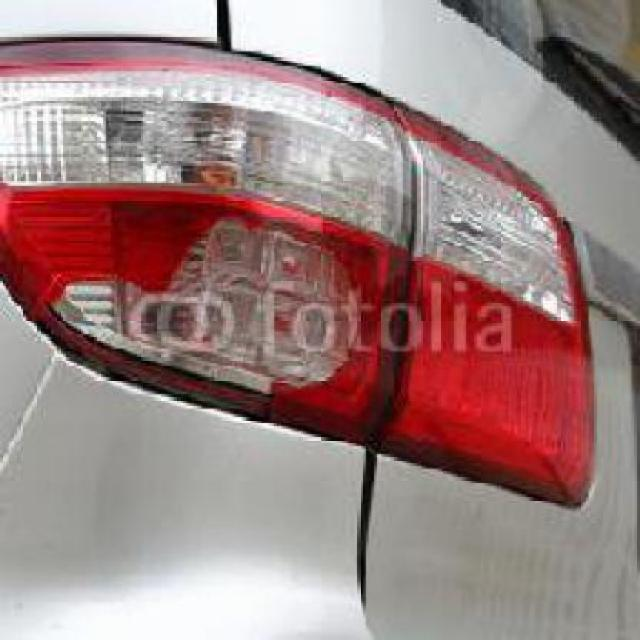damaged-tail-light: (0, 37, 609, 500)
